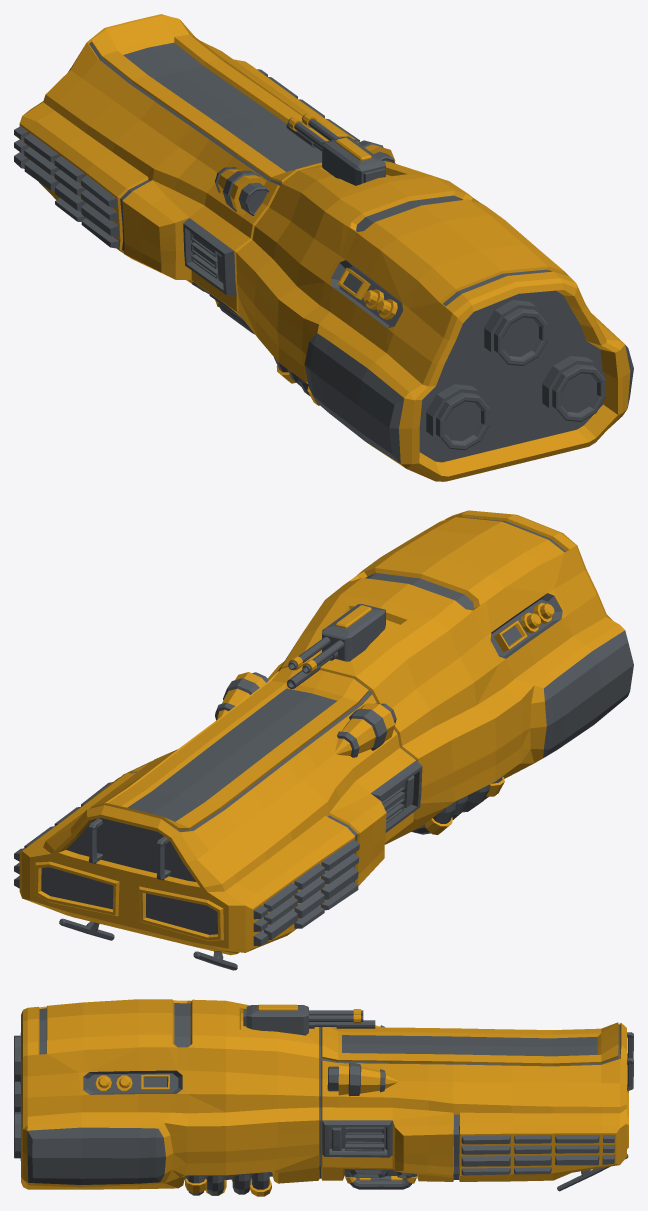
Rendered from Dropship_03_Yellow.fbx.
The picture shows the model from 3 angles, top to bottom: view 1: azimuth 30°, elevation 25°; view 2: azimuth 150°, elevation 25°; view 3: azimuth 270°, elevation 25°; orthographic projection. The views are drawn at different scales.
Visible parts, largest first — view 1: Dropship_03_Yellow; view 2: Dropship_03_Yellow; view 3: Dropship_03_Yellow.
Boxes of the visible parts, x1=… form: Dropship_03_Yellow: x1=14, y1=14, x2=633, y2=481; Dropship_03_Yellow: x1=14, y1=510, x2=633, y2=970; Dropship_03_Yellow: x1=14, y1=999, x2=633, y2=1196.
Size of the model in its own units: 395 by 322 by 1085.
Materials: 2 (2 with a texture image).
